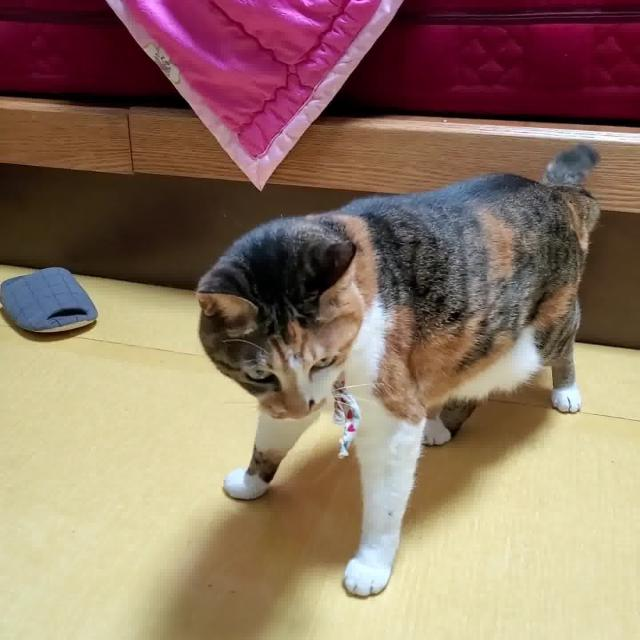cat: (187, 136, 612, 598)
